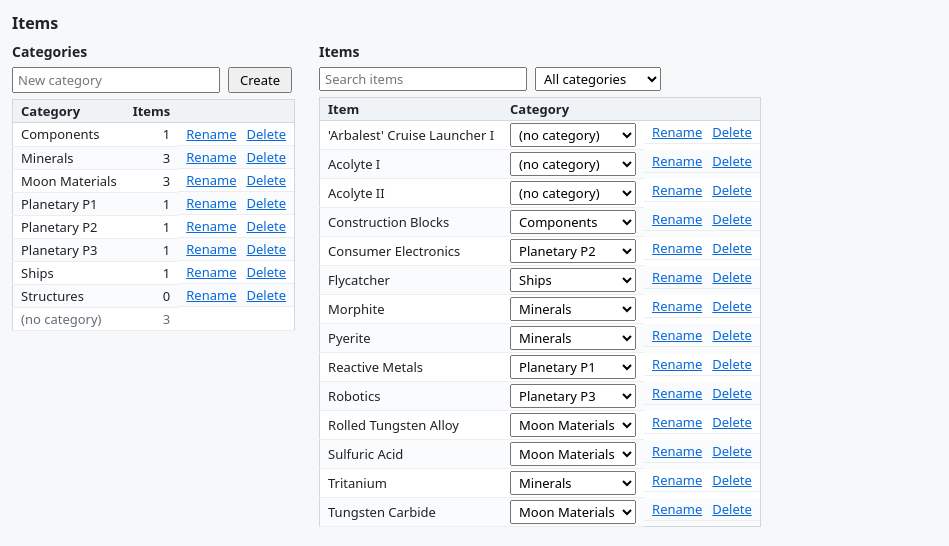
Test: ItemsSection › renames in place, and the new name reaches every file
The width and height of the screenshot is (949, 546).
Click the button with aria-label "Rename Robotics" at (677, 392), box [652,384,702,402]
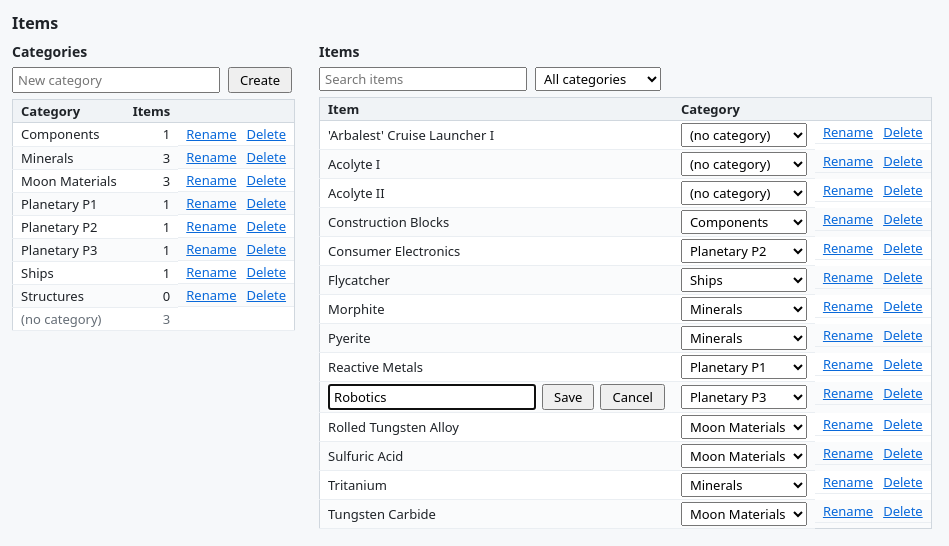
Replace the text in the field named "New name for Robotics" with "Robotics Mk2" at (432, 397), box [328,384,536,410]
Then press Enter
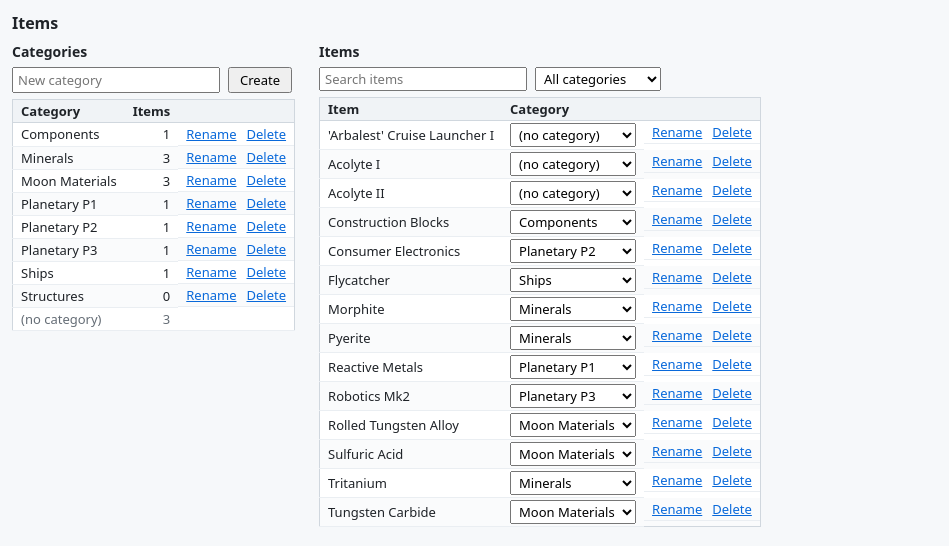
Check: the cell "Robotics Mk2" is shown, box [320,382,502,410]
